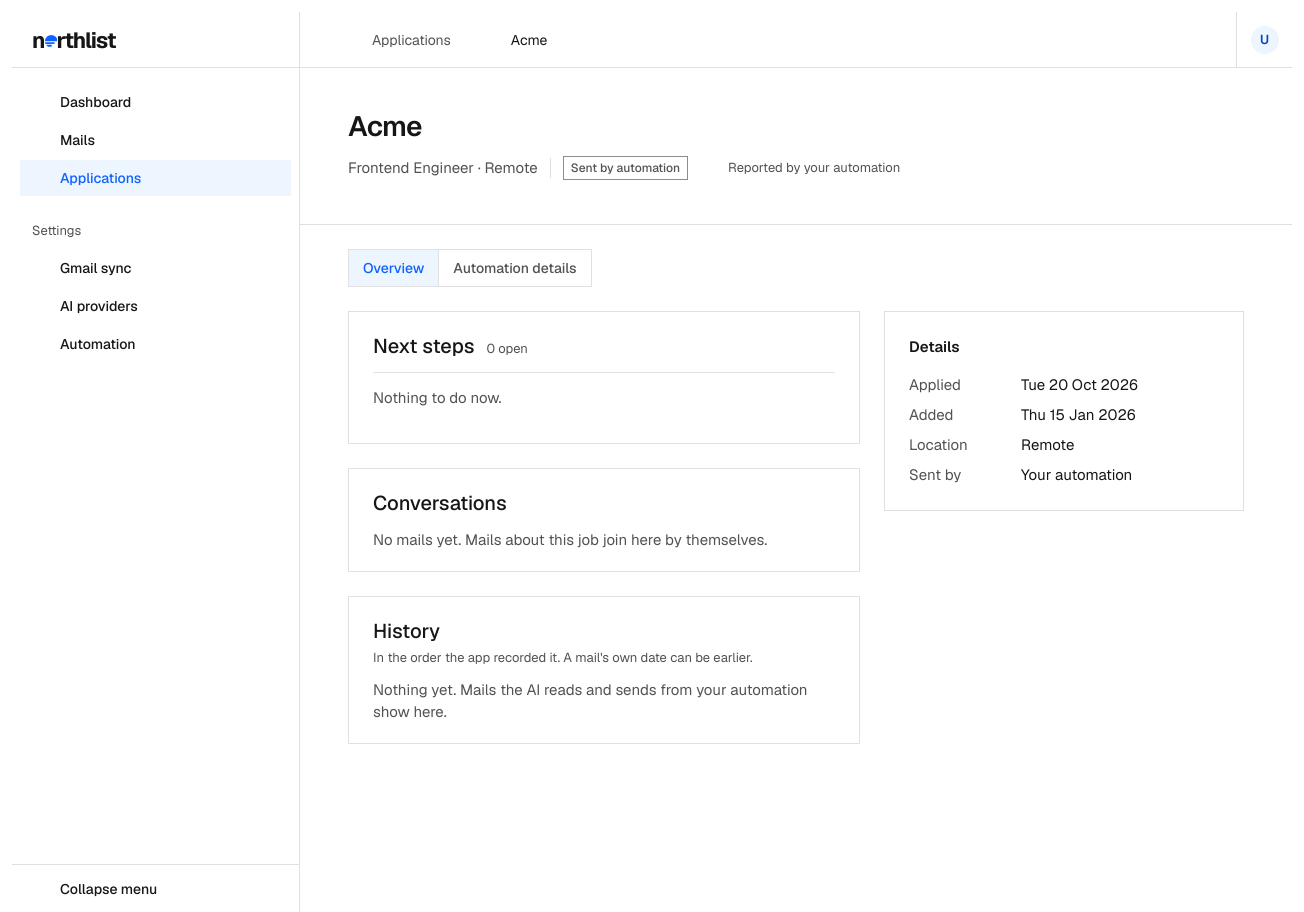
application page › marks what was not sent and shows text, never markup
Click the tab "Automation details": {"x": 514, "y": 268} left=438, top=250, right=591, bottom=286
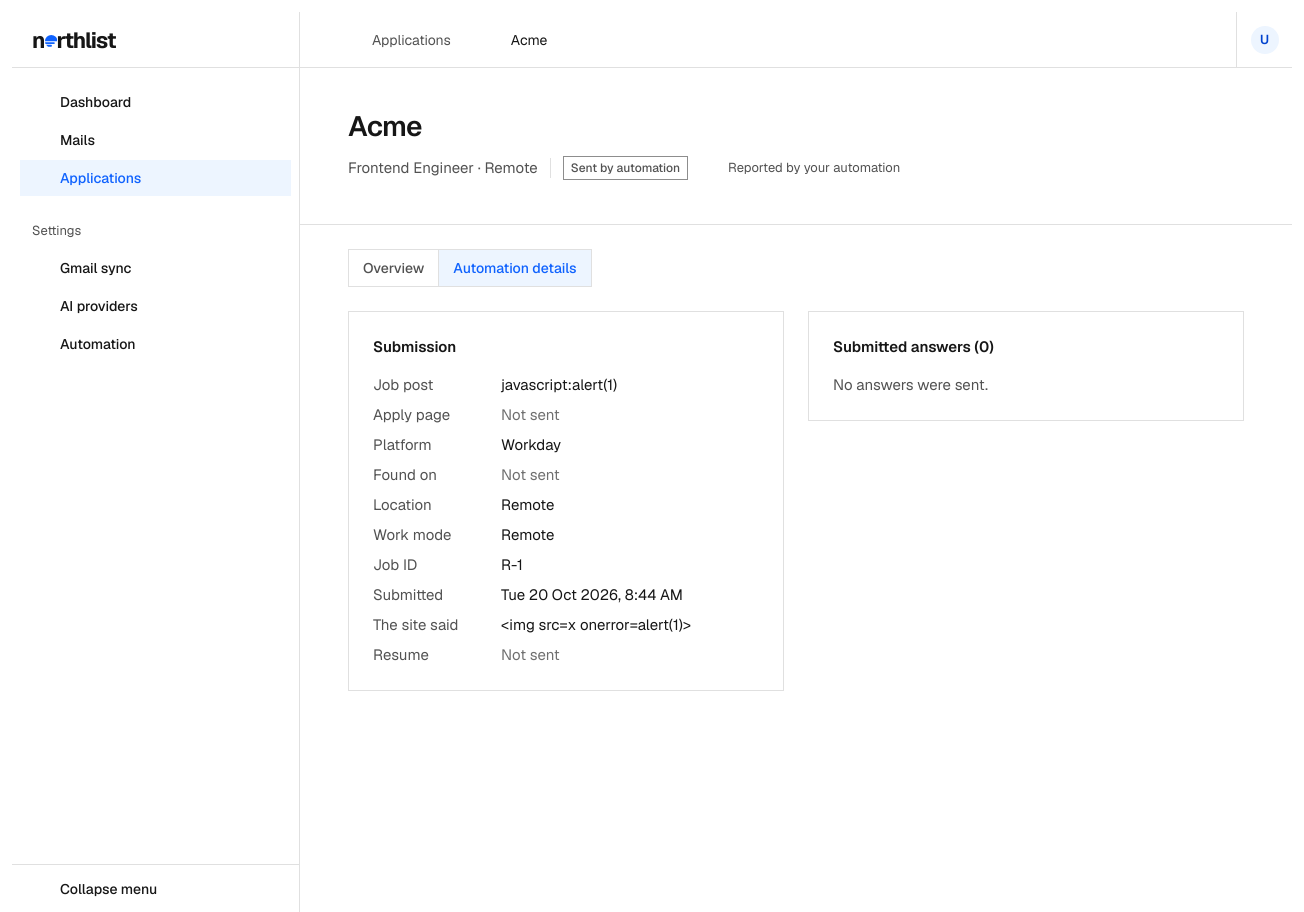
Now the text "Not sent" is shown 3 times, box left=501, top=405, right=560, bottom=424; left=501, top=465, right=560, bottom=484; left=501, top=645, right=560, bottom=664
Now the text "javascript:alert(1)" is shown, box left=501, top=375, right=617, bottom=394
Now the text "<img src=x onerror=alert(1)>" is shown, box left=501, top=615, right=691, bottom=634
